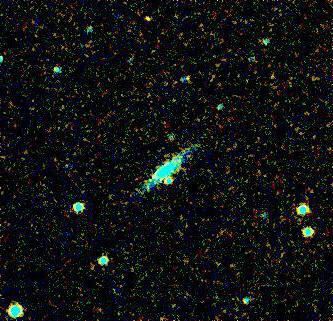star: (131, 5, 161, 35)
